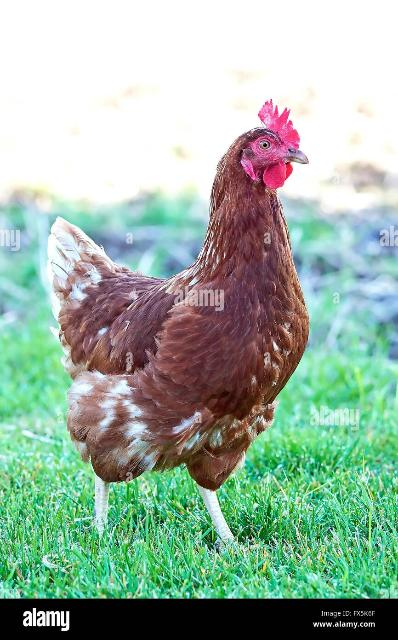Chicken: (45, 95, 316, 557)
